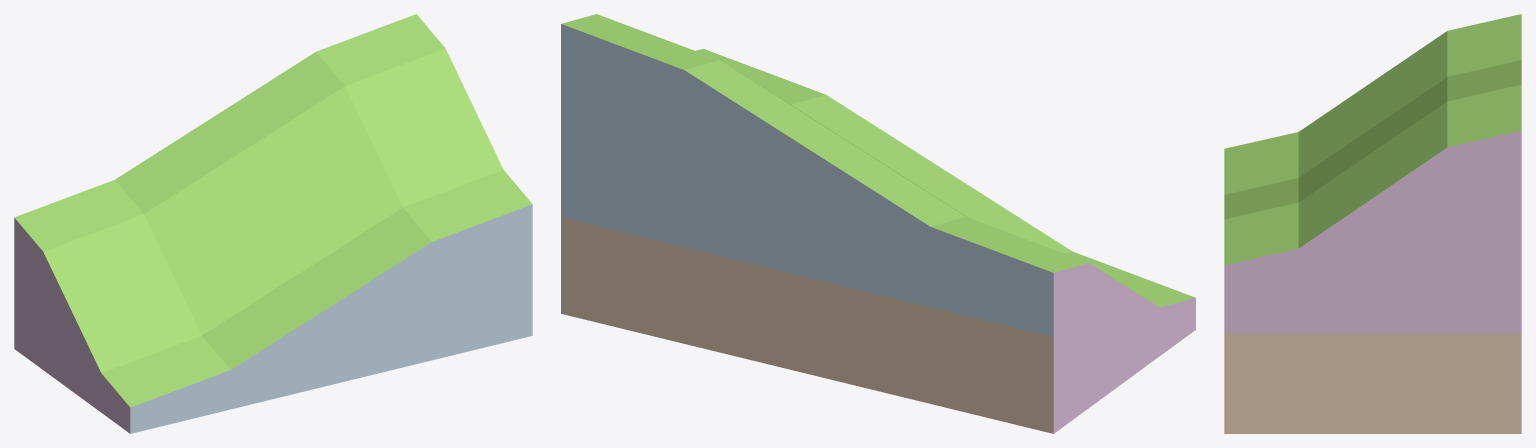
Rendered from Grass_Hill_Gentle_Overlapping_Sharp_2x4.glb.
The picture shows the model from 3 angles, left to right: view 1: azimuth 30°, elevation 25°; view 2: azimuth 150°, elevation 25°; view 3: azimuth 270°, elevation 25°; orthographic projection. The views are drawn at different scales.
Visible parts, largest first — view 1: Grass_Hill_Gentle_Overlapping_Sharp_2x4; view 2: Grass_Hill_Gentle_Overlapping_Sharp_2x4; view 3: Grass_Hill_Gentle_Overlapping_Sharp_2x4.
Part boxes in pixels (x1,y1,x2,y2): Grass_Hill_Gentle_Overlapping_Sharp_2x4: (14,14,532,433); Grass_Hill_Gentle_Overlapping_Sharp_2x4: (561,14,1195,433); Grass_Hill_Gentle_Overlapping_Sharp_2x4: (1224,14,1521,433).
Bounding box in the file's own units: 400 × 225 × 200.
